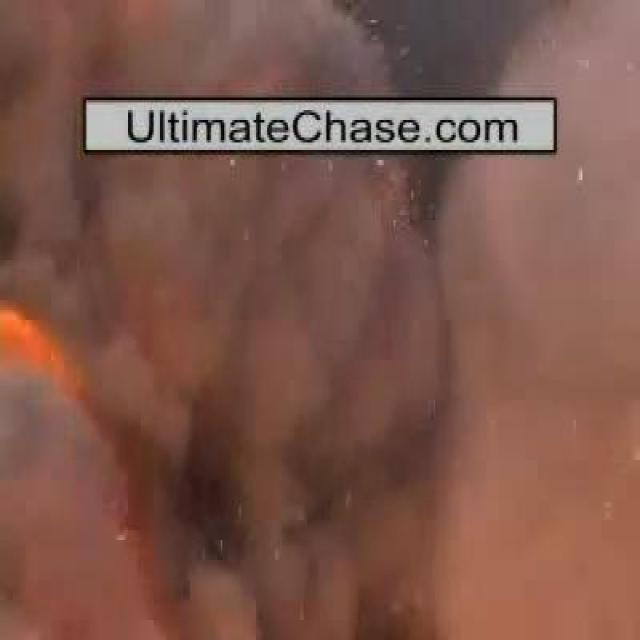Smoke: (50, 164, 579, 596)
